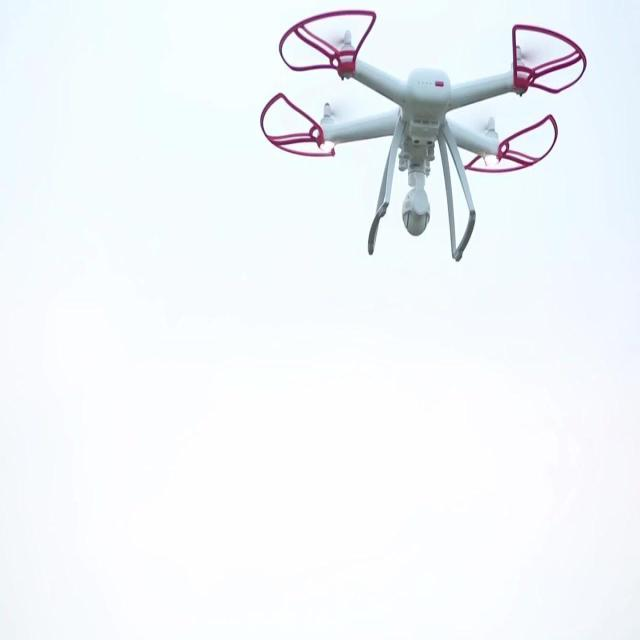drone: (259, 8, 588, 265)
